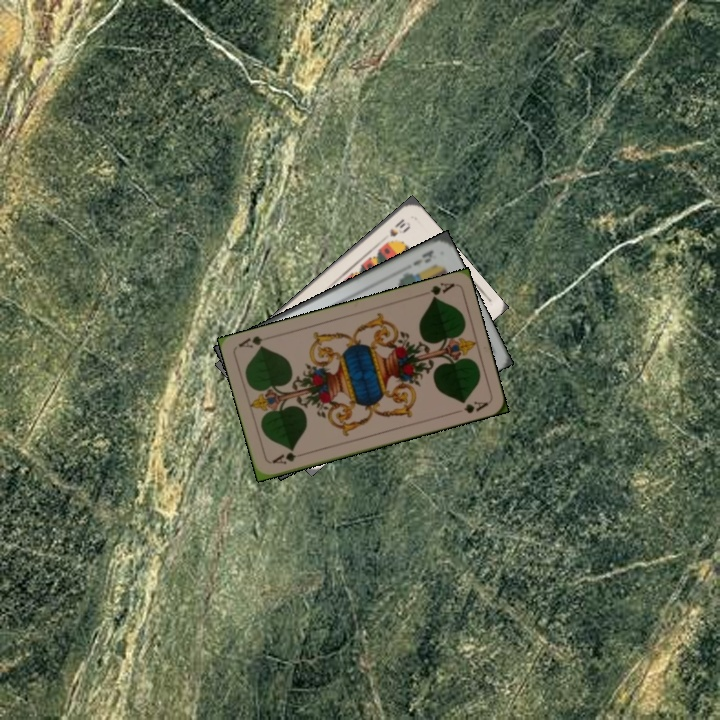EK: (409, 246, 436, 268)
GA: (268, 446, 307, 467), (427, 279, 456, 302)
S10: (386, 215, 408, 239)
